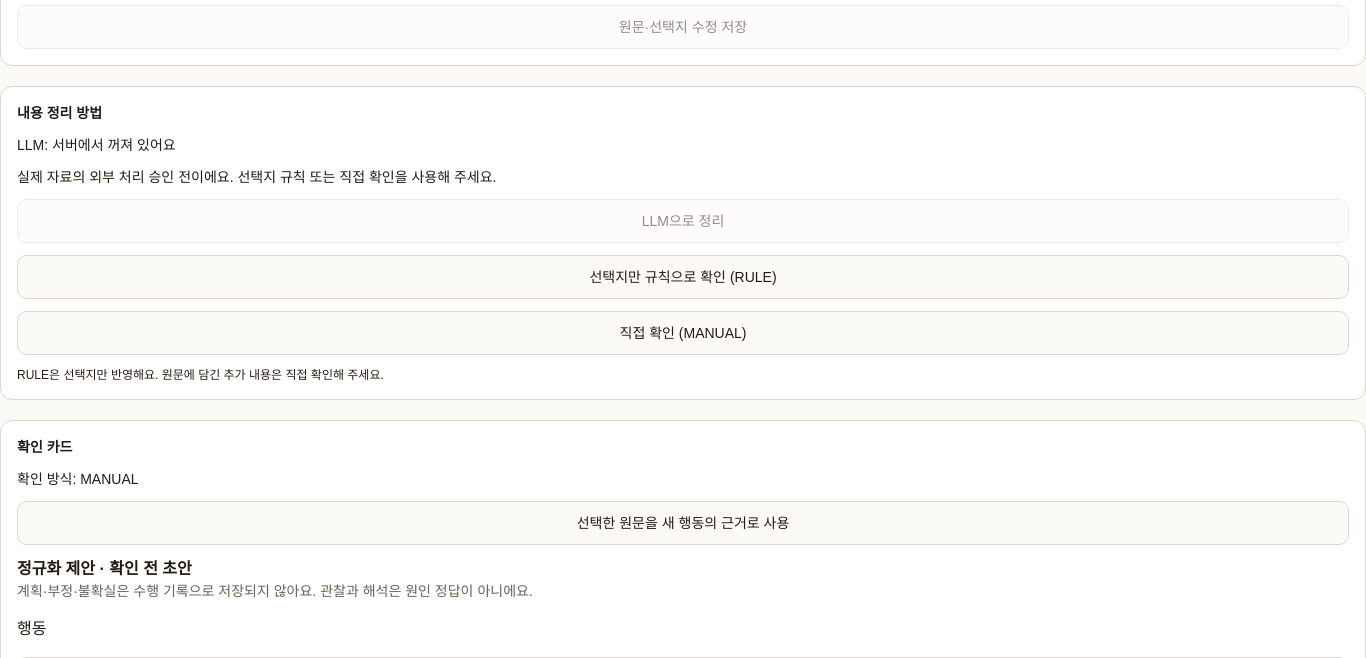
Test: A-07 review UI › displays server gating and keeps RULE/MANUAL, original input and explicit confirmation usable
(page scrolled)
Expected: the button "LLM으로 정리" is disabled, left=17, top=199, right=1349, bottom=243
Expected: the text "LLM: 서버에서 꺼져 있어요" is shown, left=17, top=137, right=176, bottom=153
Click the button "선택지만 규칙으로 확인 (RULE)" at (683, 277), box left=17, top=255, right=1349, bottom=299
(page scrolled)
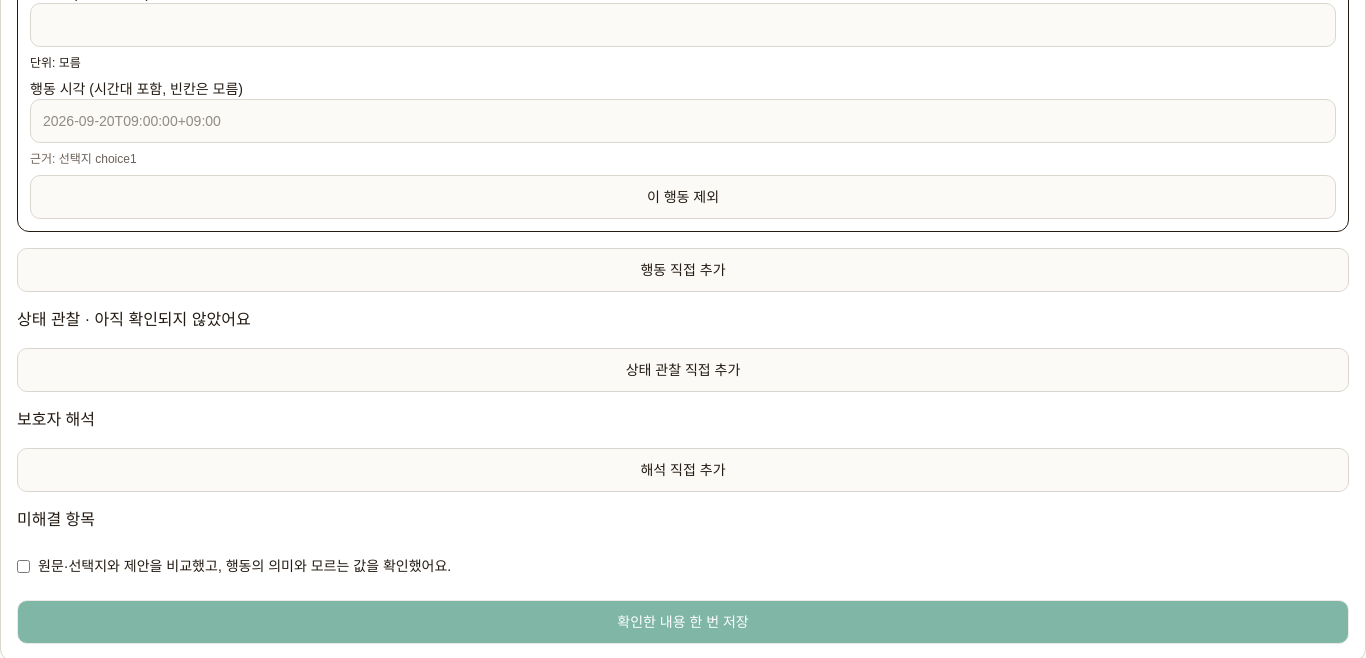
Expected: the button "확인한 내용 한 번 저장" is disabled, left=17, top=600, right=1349, bottom=644
Click the checkbox at (24, 566), box left=17, top=560, right=30, bottom=572
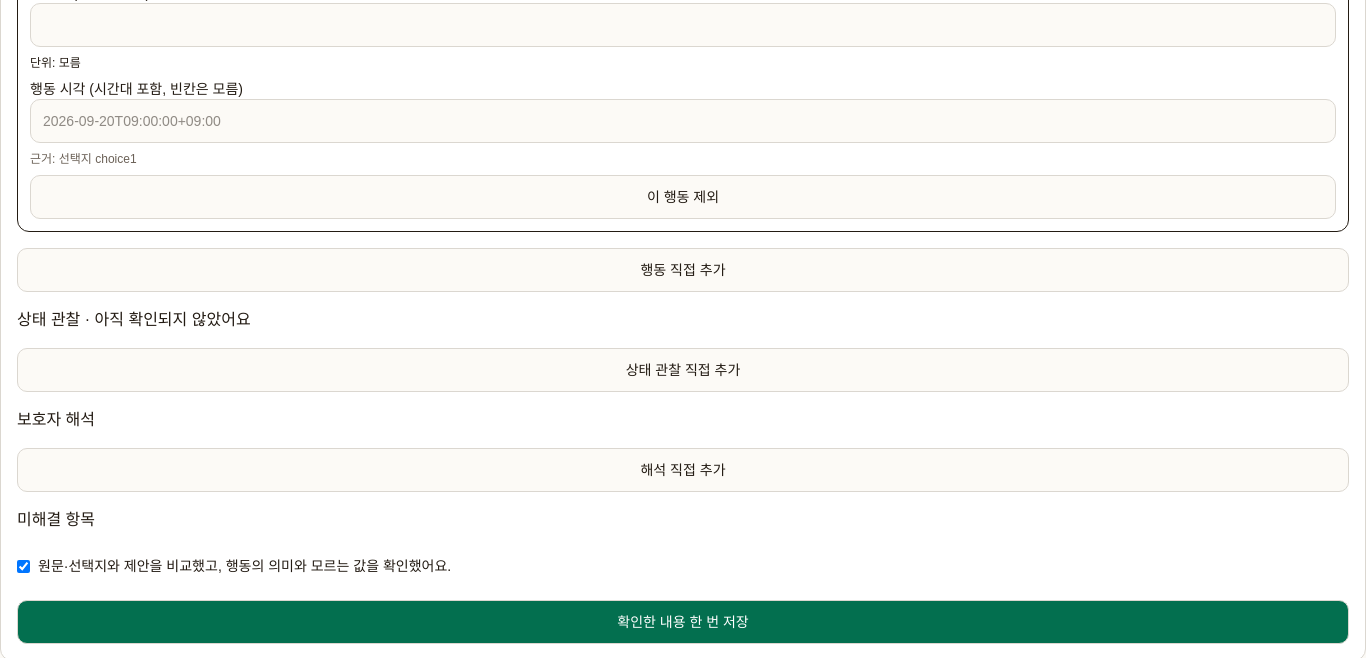
Click the button "확인한 내용 한 번 저장" at (683, 622), box left=17, top=600, right=1349, bottom=644
(page scrolled)
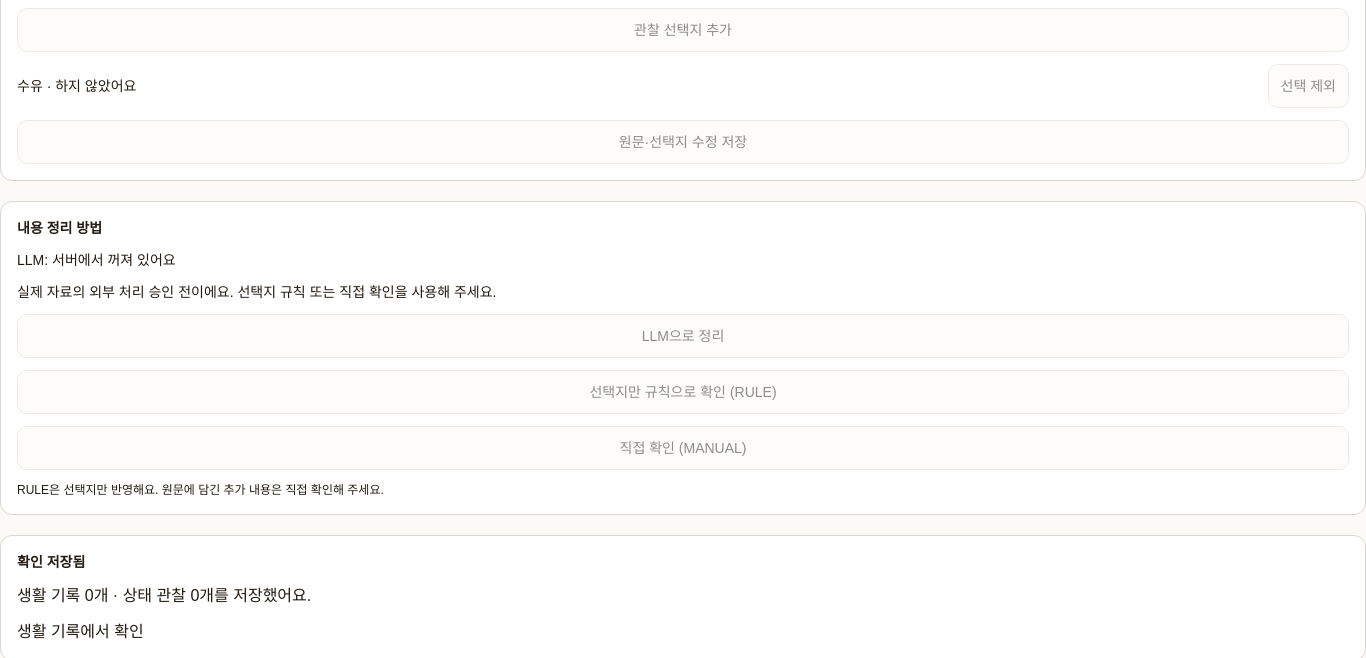
Expected: the text "생활 기록 0개 · 상태 관찰 0개를 저장했어요." is shown, left=17, top=587, right=311, bottom=604
